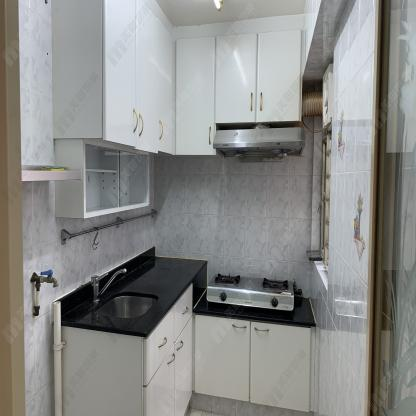Cupboard: (51, 0, 174, 156), (214, 30, 302, 122)
Exhaust Hood: (212, 121, 308, 161)
Faucet: (87, 265, 127, 301)
Sink: (64, 281, 185, 335)
Stove: (205, 269, 301, 321)
